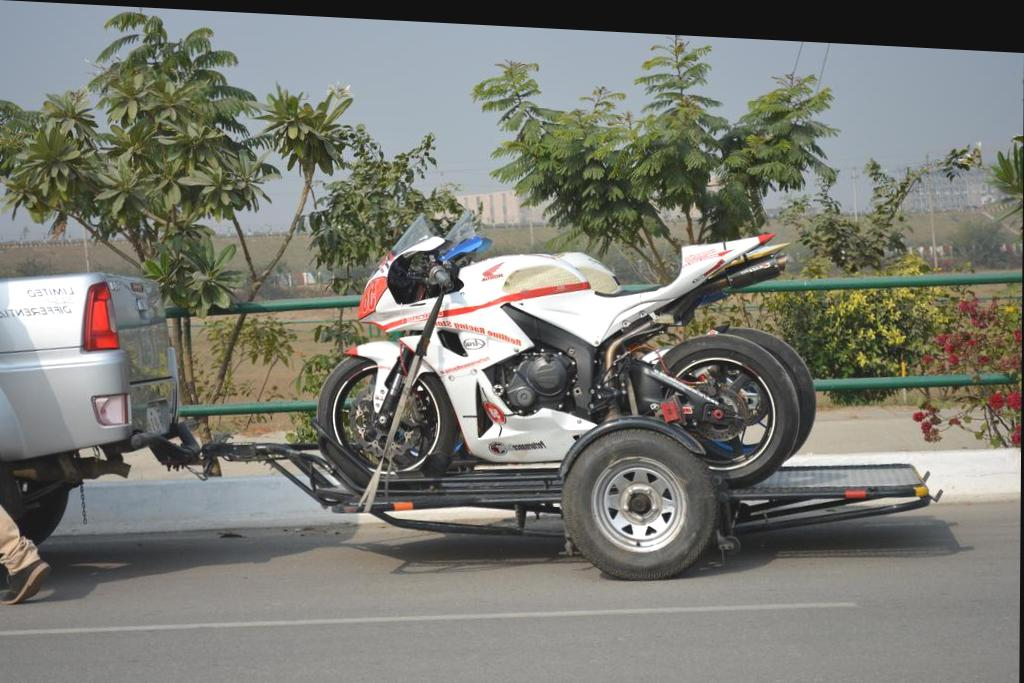License_Plate: (144, 406, 169, 436)
